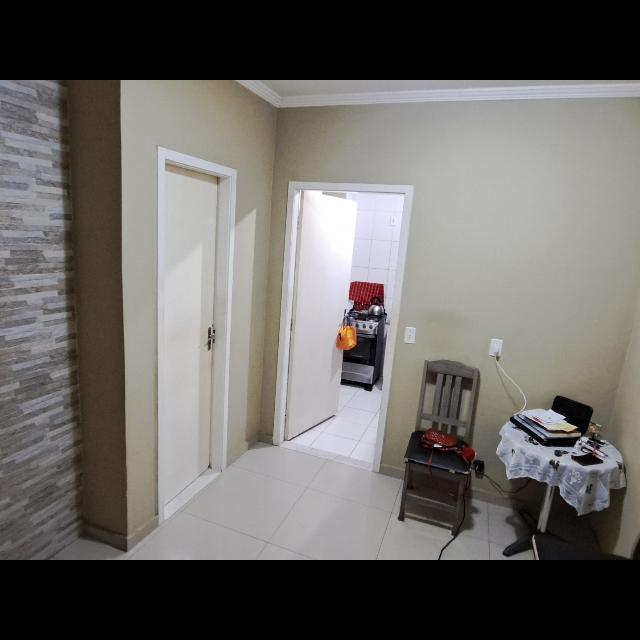Door: (157, 156, 224, 506), (283, 184, 351, 448)
